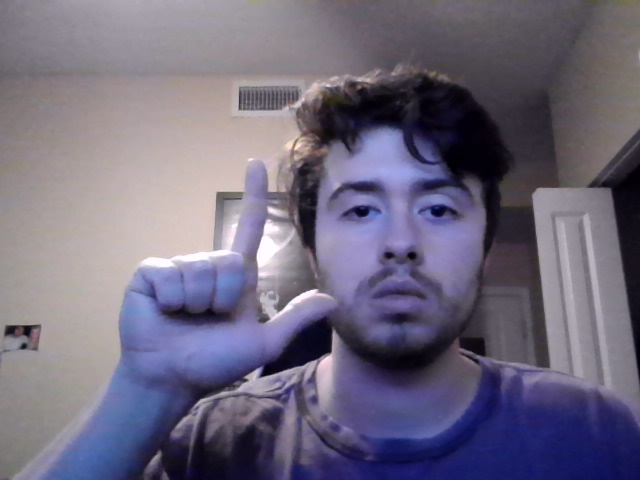l: (117, 158, 340, 414)
